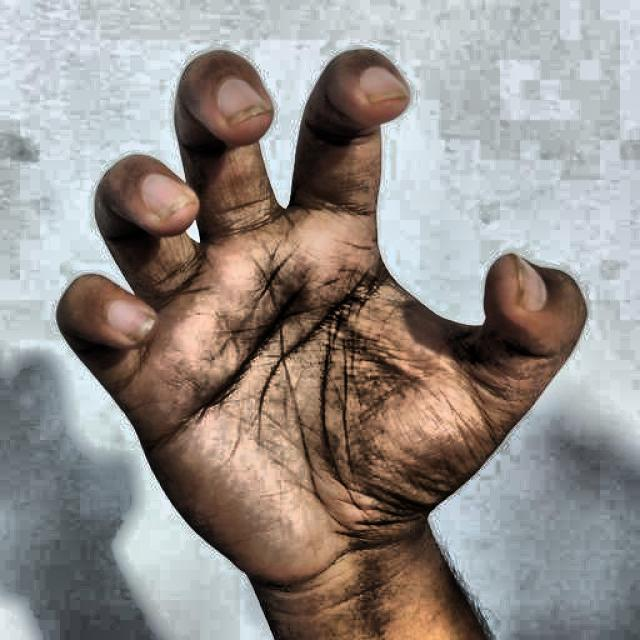Ja: (29, 14, 604, 640)
